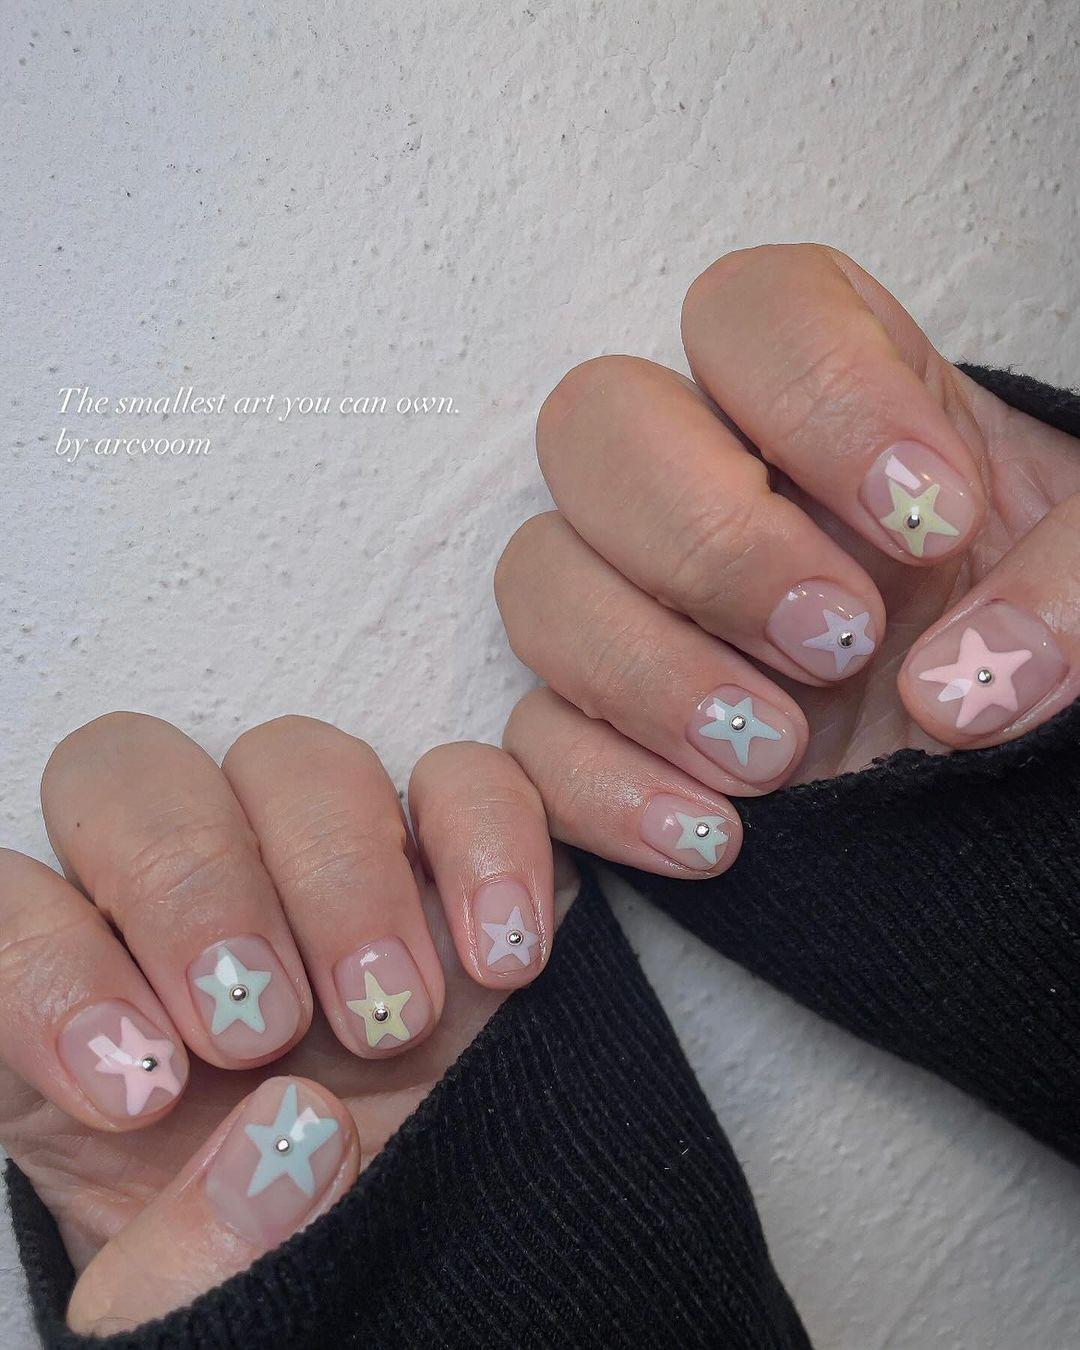nail: (533, 353, 887, 688), (679, 240, 989, 568), (39, 709, 314, 1071), (492, 508, 809, 797), (219, 712, 446, 1060), (0, 846, 190, 1133), (500, 684, 743, 881), (406, 739, 555, 991), (637, 790, 740, 876)
